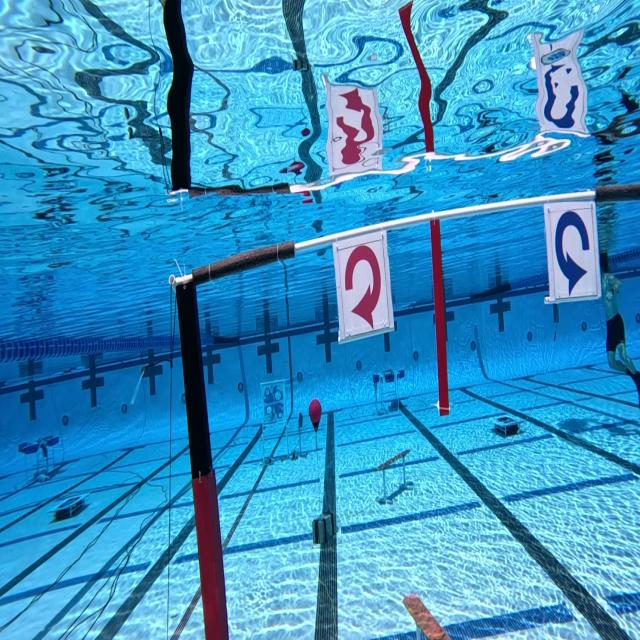blue_side: (543, 197, 601, 313)
red_side: (332, 233, 397, 345)
